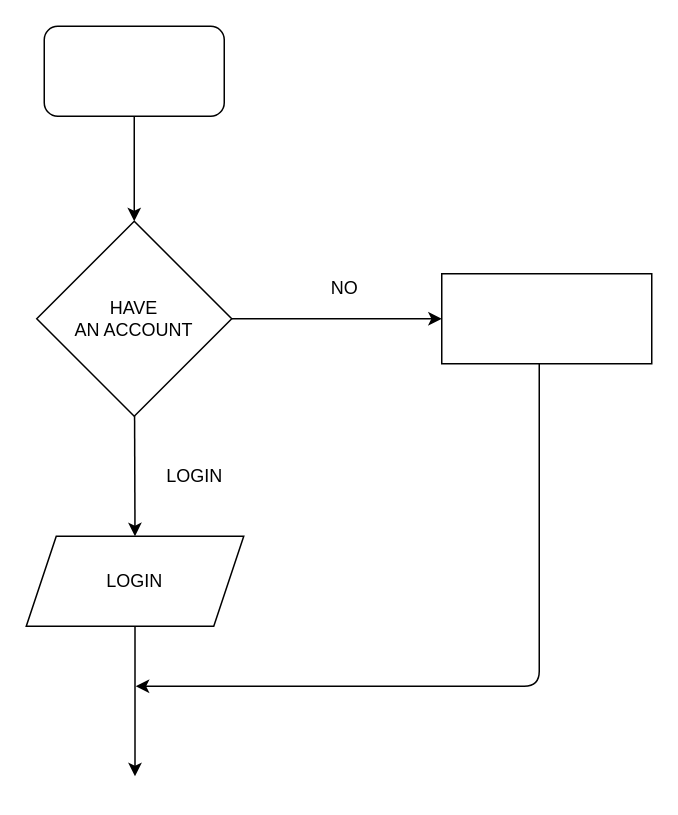
The diagram is 678 pixels wide and 815 high, and some of its shapes have lost their labels. Here are the shapes that lost their labels. From the top down, the box of each, then its label:
(43, 25, 224, 116): START
(440, 272, 652, 364): REGISTER
